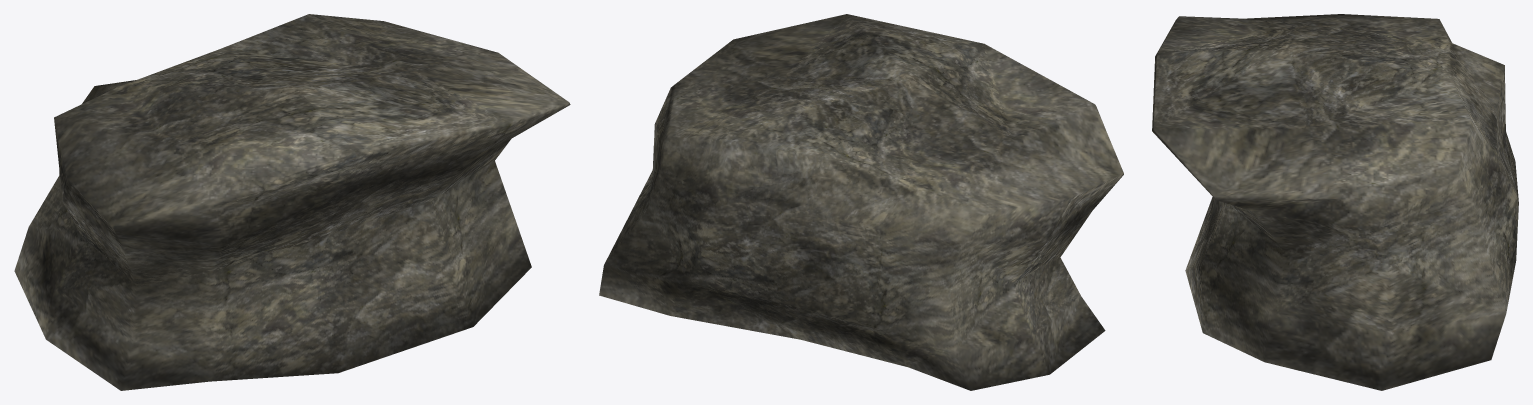
Rendered from RockB_02.glb.
3 views of the same model, side by side, from view 1: azimuth 30°, elevation 25°; view 2: azimuth 150°, elevation 25°; view 3: azimuth 270°, elevation 25° (orthographic). The views are drawn at different scales.
Parts seen in each view (by area): view 1: RockB_02.001; view 2: RockB_02.001; view 3: RockB_02.001.
Part boxes in pixels (x1,y1,x2,y2): RockB_02.001: (14,14,570,390); RockB_02.001: (599,14,1123,390); RockB_02.001: (1152,14,1518,390).
Size of the model in its own units: 8.05 by 3.99 by 5.76.
1 material, 1 textured.
